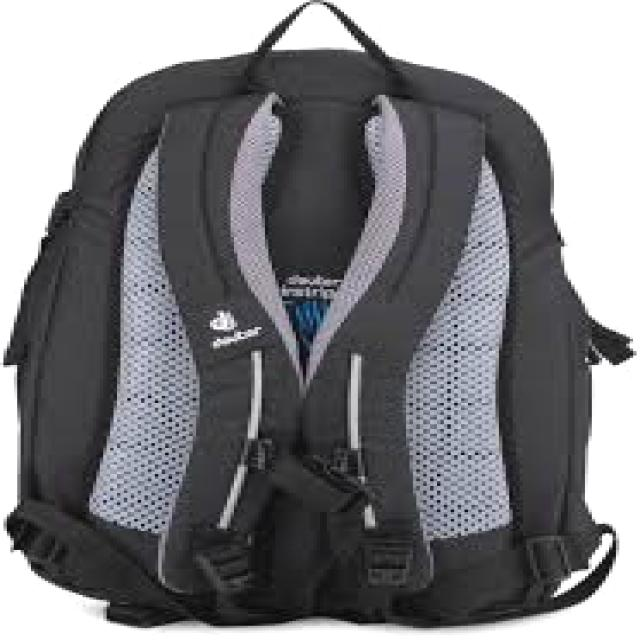backpack: (1, 1, 634, 629)
